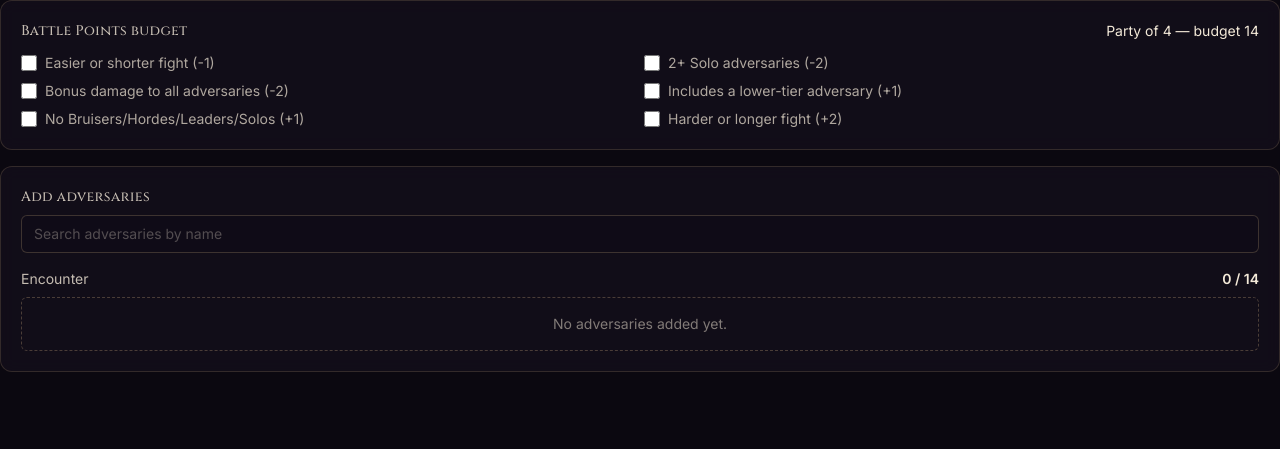
Test: EncounterBuilderPanel › removes an added adversary
Check: the text "Party of 4 — budget 14" is shown, box [1106,21,1259,41]
Type "Acid" into the field with placeholder "Search adversaries by name". click: (640, 234)
box: [21,215,1259,253]
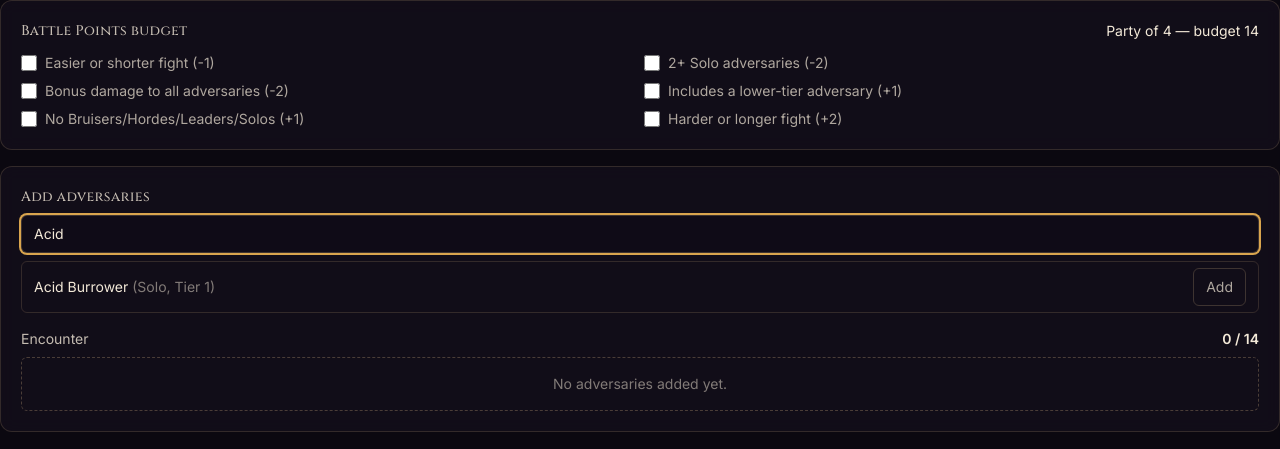
Check: the text "Acid Burrower (Solo, Tier 1)" is shown, box [34,277,215,297]
Click the button "Add". click: (1220, 287)
box: [1193,268,1246,306]
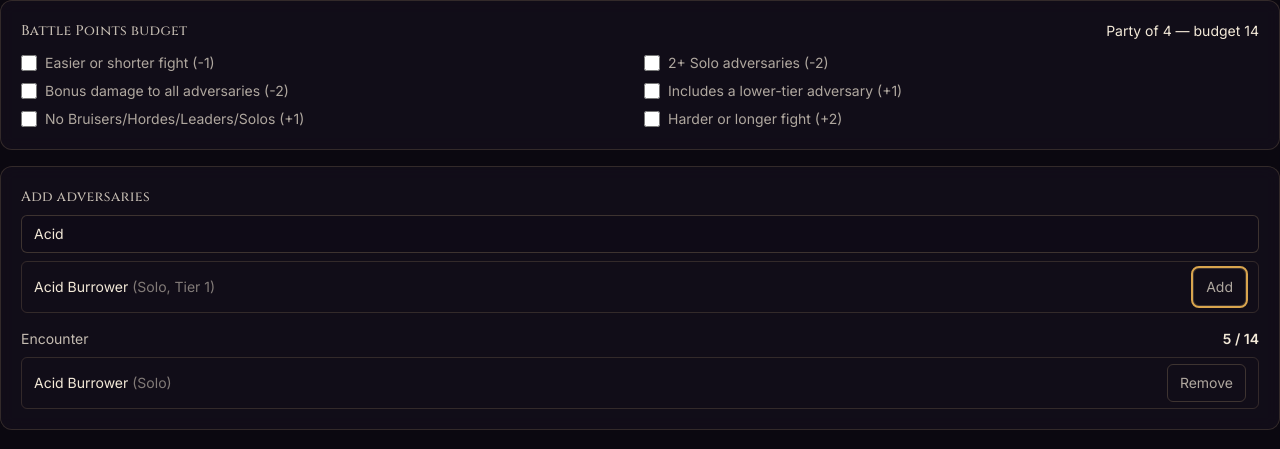
Check: the text "5 / 14" is shown, box [1223,329,1259,349]
Click the button "Remove". click: (1206, 383)
box: [1167,364,1246,402]
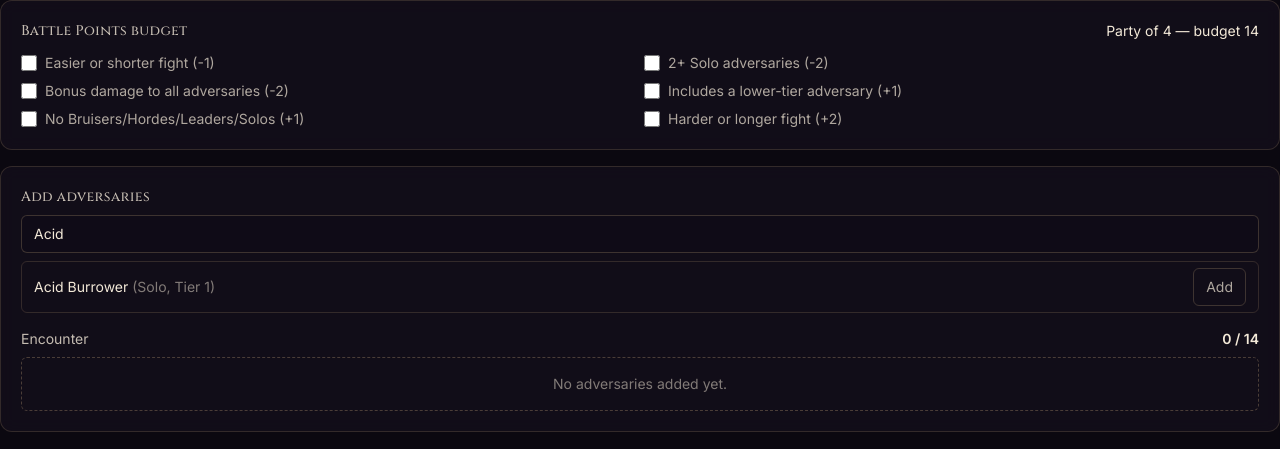
Check: the text "0 / 14" is shown, box [1222,329,1259,349]
Check: the list item "No adversaries added yet." is shown, box [21,357,1259,411]
